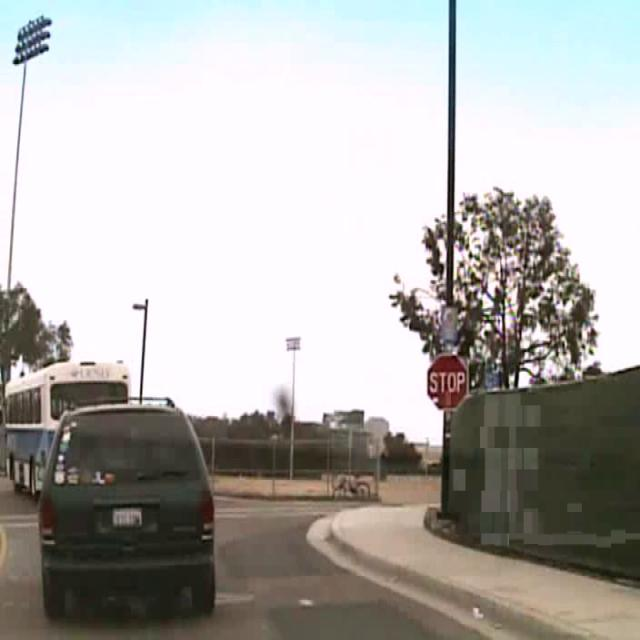stop_sign: (426, 352, 468, 411)
